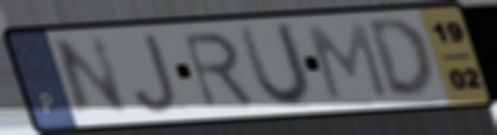D: (364, 15, 438, 102)
J: (131, 30, 180, 117)
M: (304, 20, 392, 102)
N: (50, 33, 133, 123)
R: (178, 29, 259, 112)
U: (233, 20, 316, 111)
